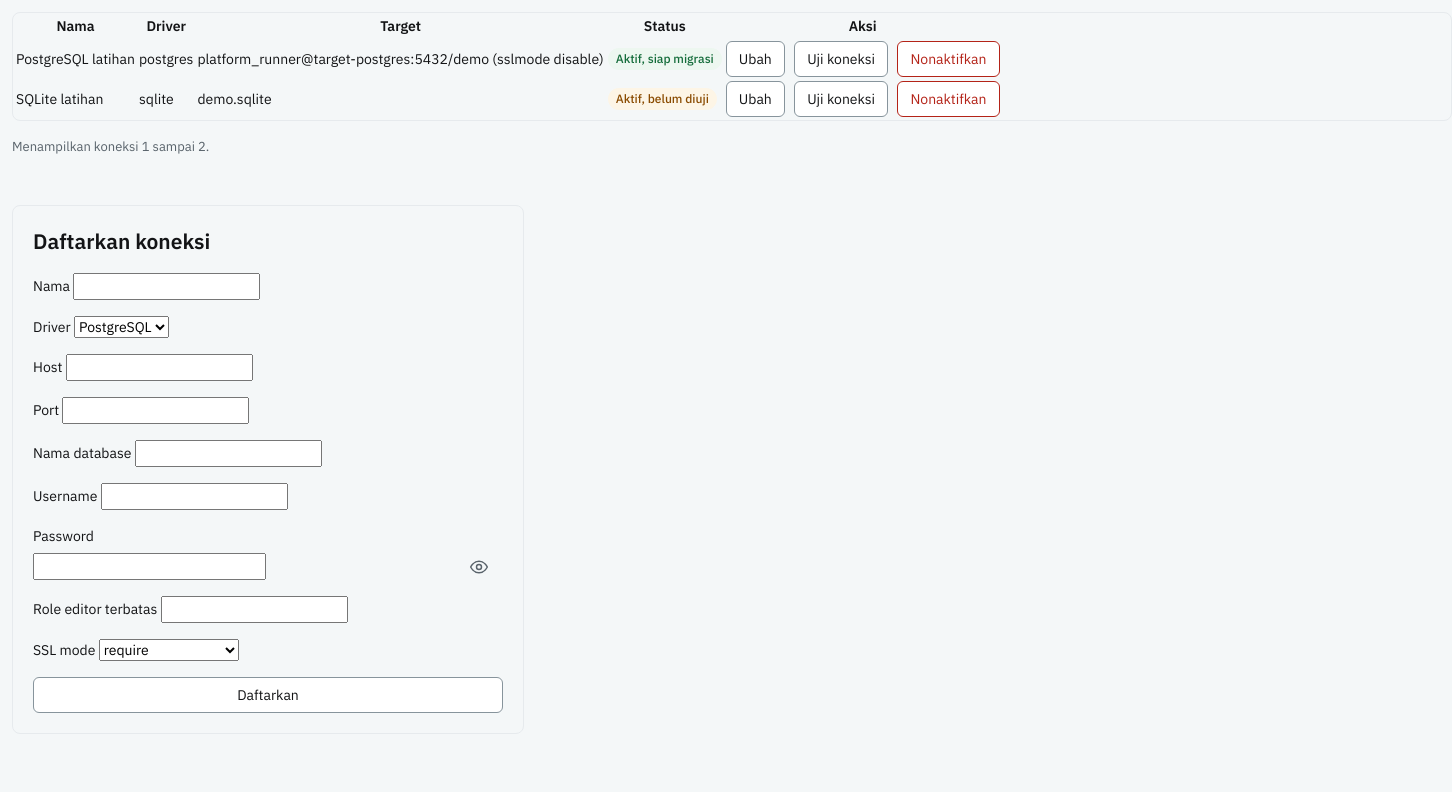
Test case: ConnectionsPage › does not send a request when nothing changed
The image size is (1452, 792).
Check: the text "SQLite latihan" is shown, box x1=15 y1=80 x2=136 y2=118
What coordinates should you click on to do the following:
click the button "Ubah" in the row of "SQLite latihan"
I would click on:
 (755, 99)
Its box is x1=726 y1=81 x2=785 y2=117.
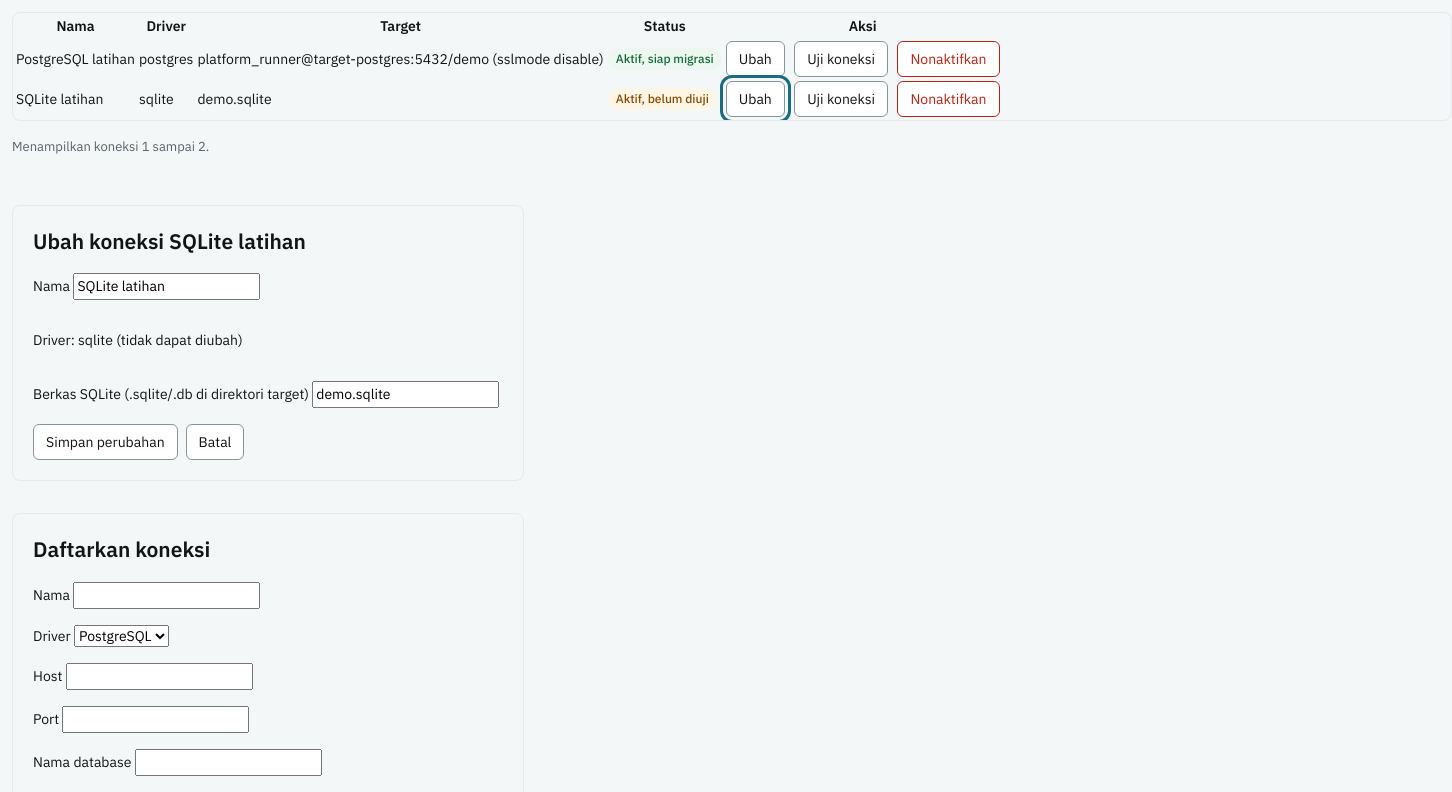
What coordinates should you click on to do the following:
click the button "Simpan perubahan"
I would click on:
 (105, 442)
Its box is x1=33 y1=424 x2=178 y2=460.
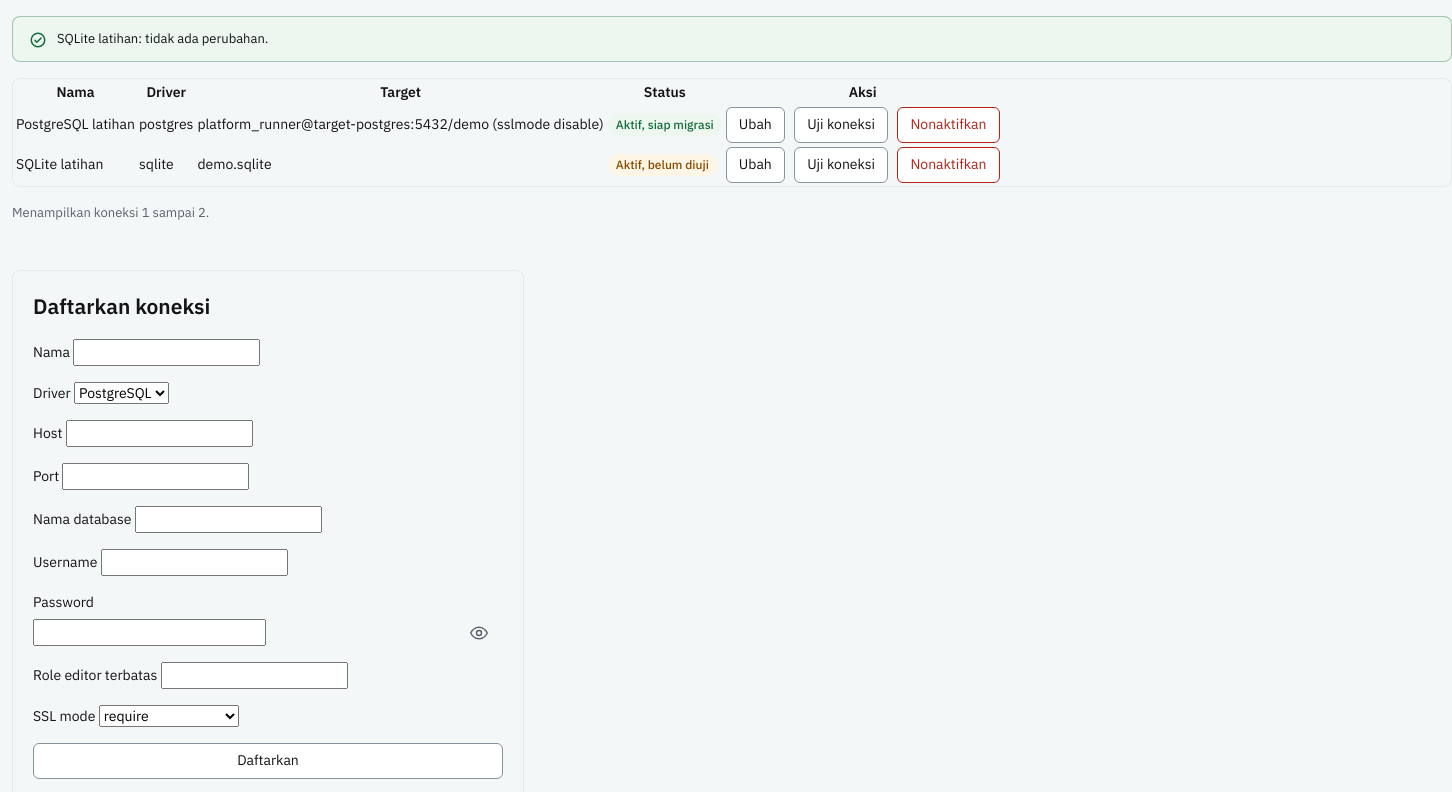
Check: the message shows "tidak ada perubahan", box x1=57 y1=30 x2=268 y2=47
